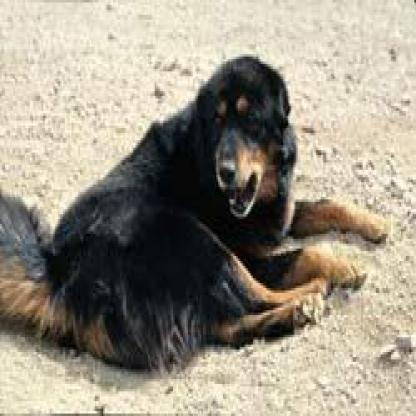Tibetan_mastiff: (0, 49, 389, 379)
